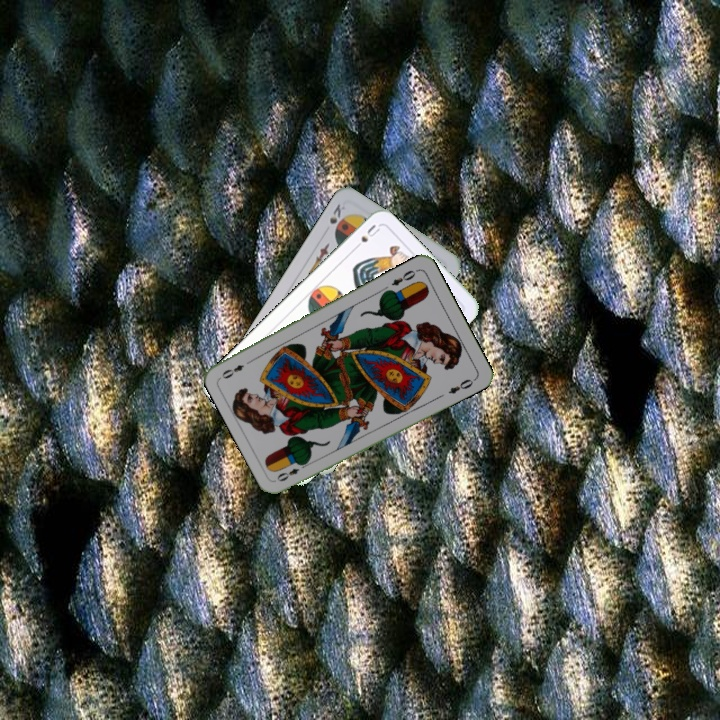EO: (273, 459, 310, 484), (387, 265, 421, 288)
SK: (325, 200, 349, 227)
SU: (349, 220, 383, 253)
